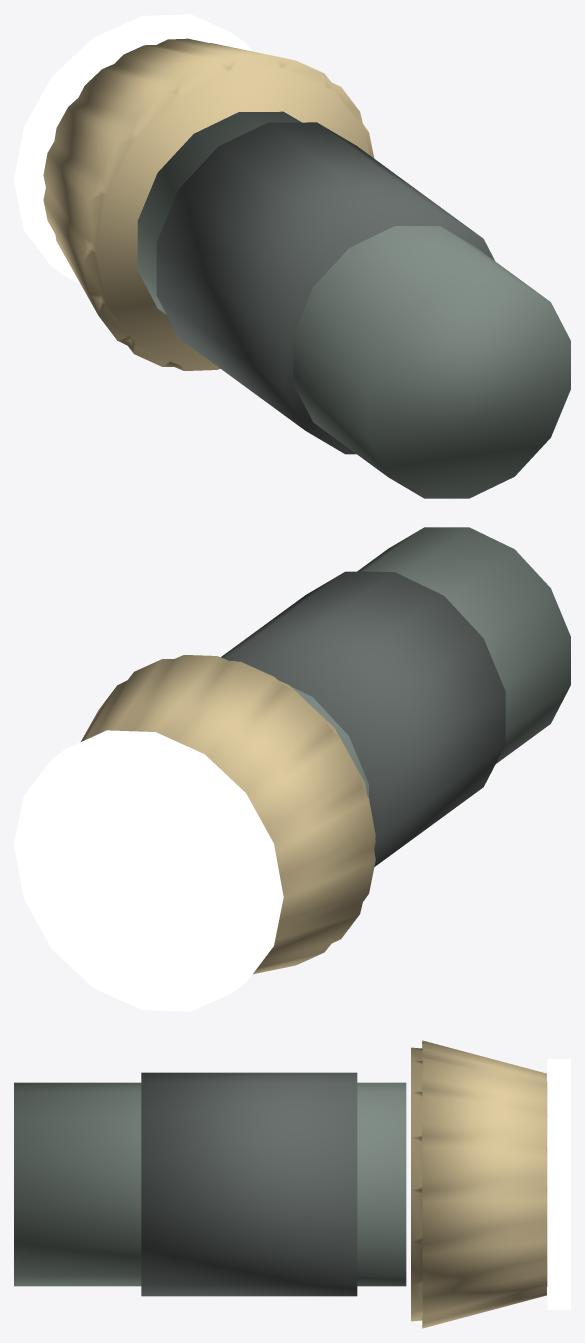
The model's file is sub-torch.glb.
The picture shows the model from 3 angles, top to bottom: view 1: azimuth 30°, elevation 25°; view 2: azimuth 150°, elevation 25°; view 3: azimuth 270°, elevation 25°; orthographic projection. The views are drawn at different scales.
Visible parts, largest first — view 1: SubTorch; view 2: SubTorch; view 3: SubTorch.
Part boxes in pixels (bbox=[...]): SubTorch: bbox=[14, 14, 570, 498]; SubTorch: bbox=[14, 527, 570, 1011]; SubTorch: bbox=[14, 1040, 570, 1328].
Size of the model in its own units: 0.1466 by 0.1466 by 0.284.
